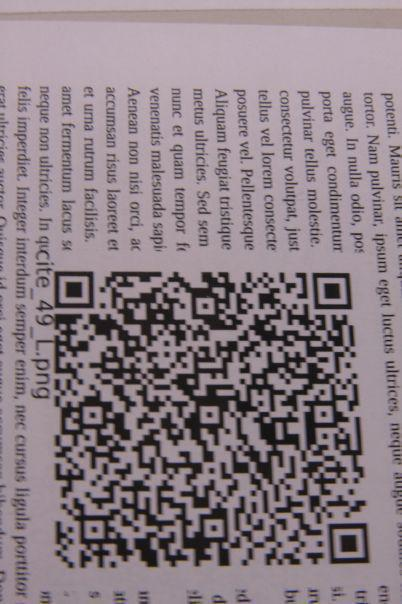qr_code: (54, 270, 370, 568)
